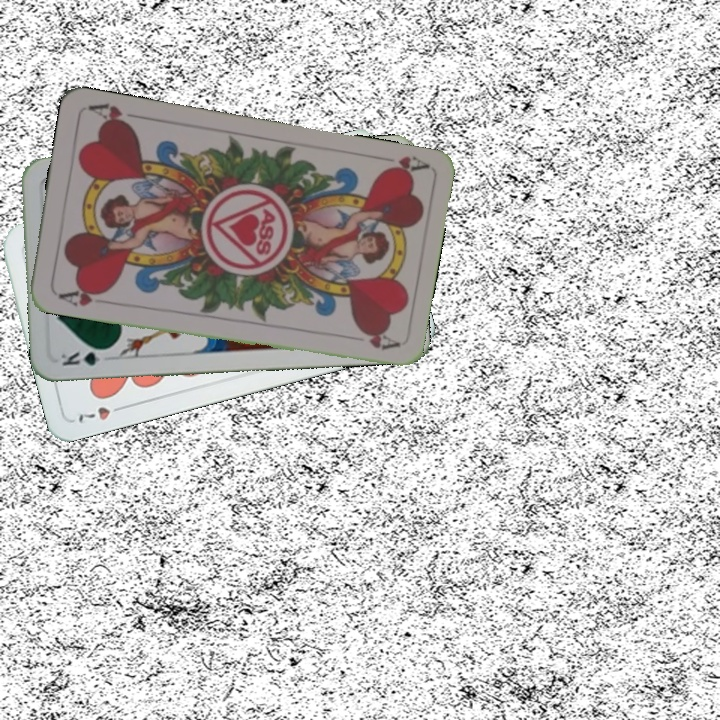GK: (57, 345, 114, 369)
H7: (74, 401, 129, 425)
HA: (370, 152, 429, 179), (54, 282, 111, 309)
